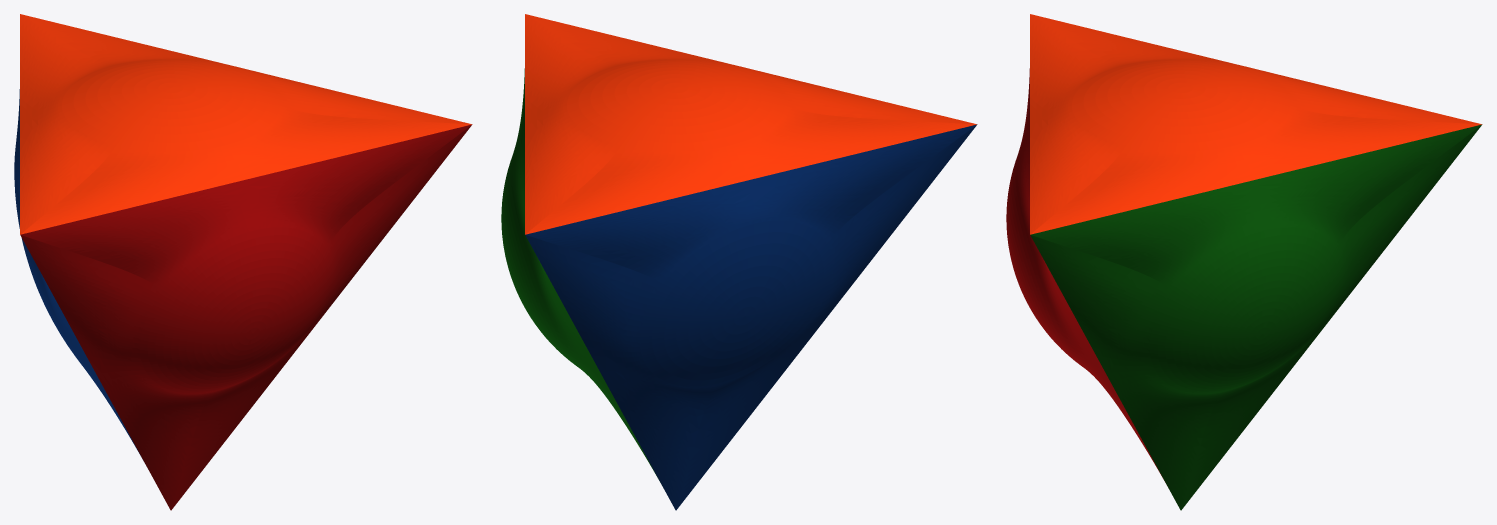
The model's file is 1_2_1_2_tetrahedron.obj.
The picture shows the model from 3 angles, left to right: view 1: azimuth 30°, elevation 25°; view 2: azimuth 150°, elevation 25°; view 3: azimuth 270°, elevation 25°; orthographic projection.
Visible parts, largest first — view 1: Level_2_-_level_2_front_Level_2_-_level_2_front.001, Level_1_-_level_1_top_Level_1_-_level_1_top.002, Level_1_-_level_1_left_Level_1_-_level_1_left.002; view 2: Level_1_-_level_1_left_Level_1_-_level_1_left.002, Level_1_-_level_1_top_Level_1_-_level_1_top.002, Level_2_-_level_2_right_Level_2_-_level_2_right.001; view 3: Level_2_-_level_2_right_Level_2_-_level_2_right.001, Level_1_-_level_1_top_Level_1_-_level_1_top.002, Level_2_-_level_2_front_Level_2_-_level_2_front.001.
Part boxes in pixels (x1,y1,x2,y2): Level_2_-_level_2_front_Level_2_-_level_2_front.001: (20,124,472,510); Level_1_-_level_1_top_Level_1_-_level_1_top.002: (20,14,471,234); Level_1_-_level_1_left_Level_1_-_level_1_left.002: (14,89,146,466); Level_1_-_level_1_left_Level_1_-_level_1_left.002: (525,124,977,510); Level_1_-_level_1_top_Level_1_-_level_1_top.002: (525,14,976,234); Level_2_-_level_2_right_Level_2_-_level_2_right.001: (501,68,660,482); Level_2_-_level_2_right_Level_2_-_level_2_right.001: (1030,124,1482,510); Level_1_-_level_1_top_Level_1_-_level_1_top.002: (1030,14,1481,234); Level_2_-_level_2_front_Level_2_-_level_2_front.001: (1006,68,1165,482).
Bounding box in the file's own units: 0.1 × 0.0894 × 0.0911.
